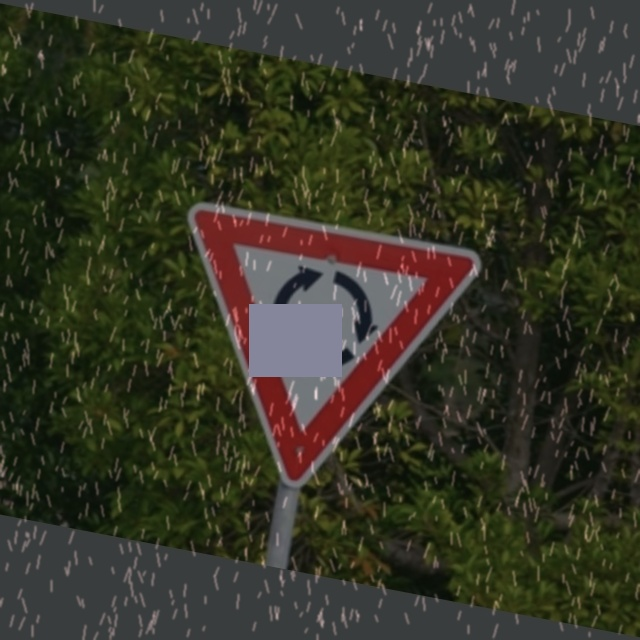Round_About: (146, 188, 483, 509)
